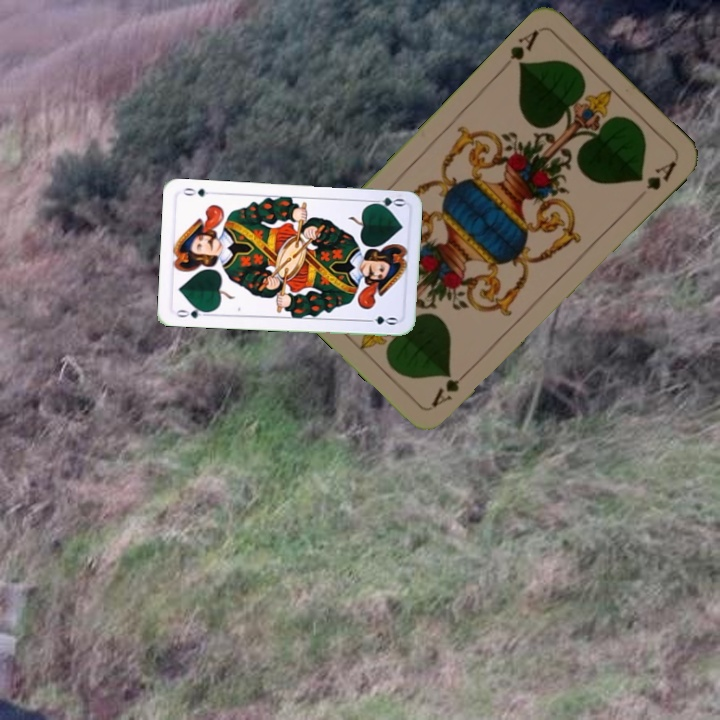GA: (427, 364, 474, 411), (506, 25, 542, 72)
GO: (172, 303, 212, 321), (366, 193, 406, 211)
